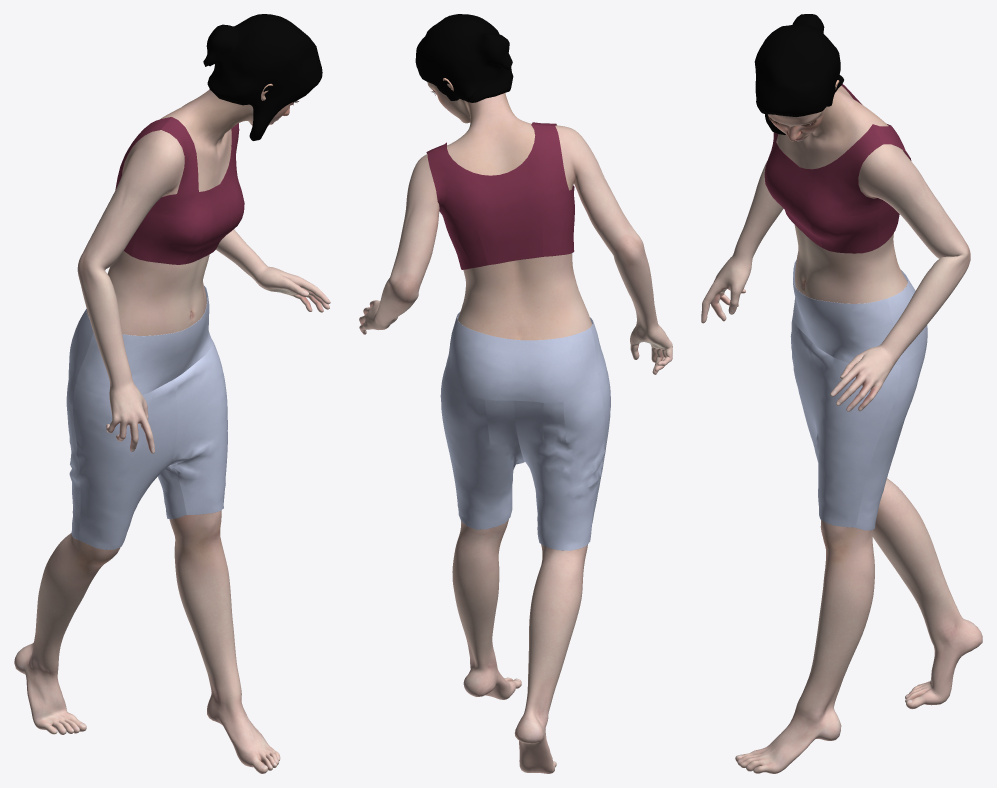
Rendered from Dynamic.obj.
The picture shows the model from 3 angles, left to right: view 1: azimuth 30°, elevation 25°; view 2: azimuth 150°, elevation 25°; view 3: azimuth 270°, elevation 25°; orthographic projection. The views are drawn at different scales.
Size of the model in its own units: 683 by 1739 by 590.
